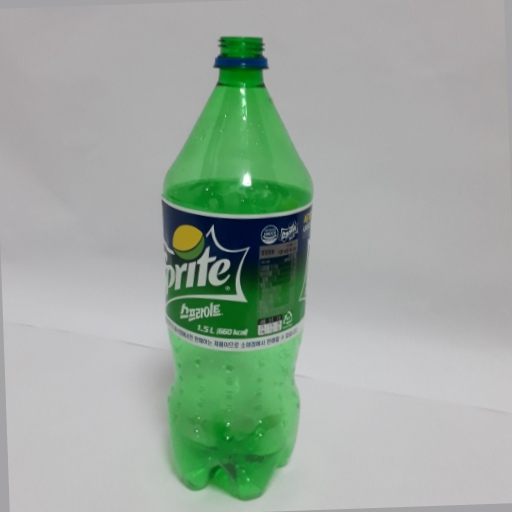Plastic_0: (159, 30, 314, 506)
